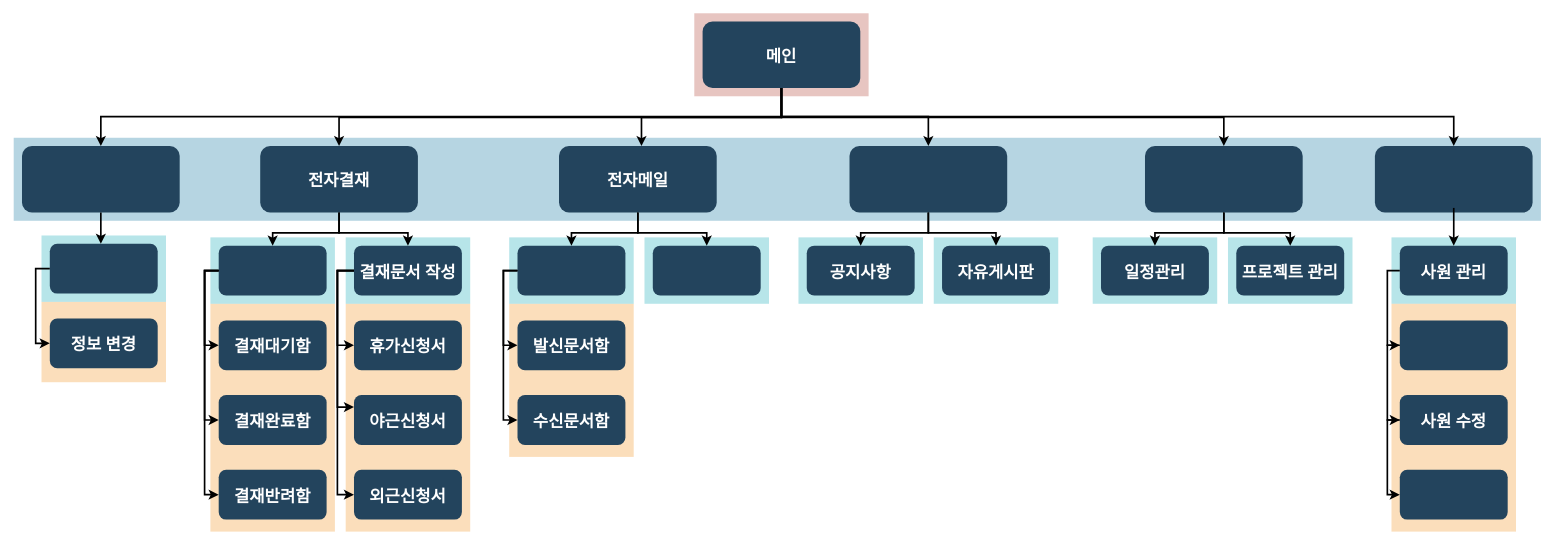
This 1555x545 diagram has some shape labels left out. The shapes that lost their labels are listed below. From the top down, each one's centre as x and y in pixels, then its label:
At (x=100, y=179): "내 정보".
At (x=928, y=179): "커뮤니티".
At (x=1223, y=179): "업무관리".
At (x=1453, y=179): "관리자 메뉴".
At (x=103, y=268): "내 정보 확인".
At (x=272, y=270): "전자결재메일함".
At (x=571, y=270): "메일함".
At (x=706, y=270): "메일 작성".
At (x=1453, y=345): "사원 등록".
At (x=1453, y=494): "사원 삭제".
